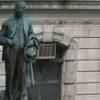Statue: (3, 4, 41, 92)
